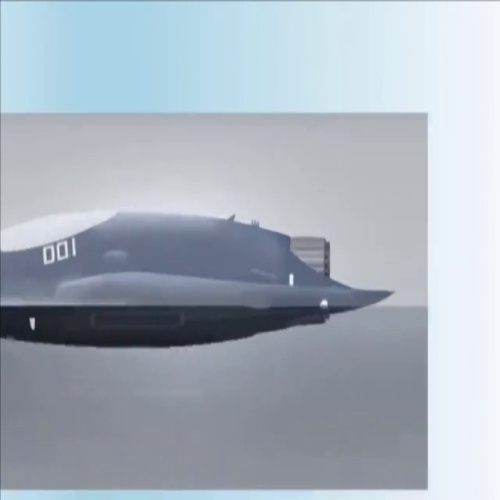uav: (1, 207, 400, 353)
